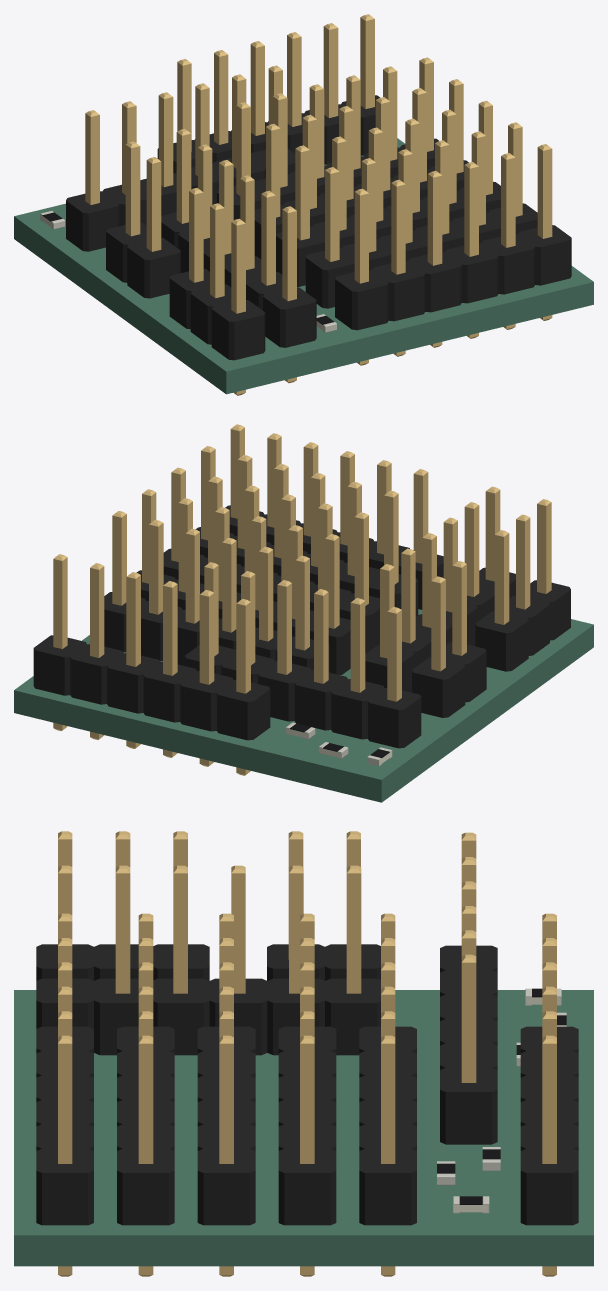
File: spi_split.glb
3 views of the same model, one above another, from view 1: azimuth 30°, elevation 25°; view 2: azimuth 150°, elevation 25°; view 3: azimuth 270°, elevation 25° (orthographic). The views are drawn at different scales.
Visible parts, largest first — view 1: =>[0:1:1:6], J6, J11, J5, J3, J1, J2, J4, J9, J10, J8; view 2: =>[0:1:1:6], J1, J3, J9, J11, J2, J4, J10, J6, J5, J8; view 3: =>[0:1:1:6], J11, J10, J4, J1, J5, J6, J9, J3, J2, J8, R6.
Boxes of the visible parts, x1=… form: =>[0:1:1:6]: x1=14, y1=138, x2=593, y2=394; J6: x1=335, y1=144, x2=571, y2=365; J11: x1=161, y1=129, x2=316, y2=383; J5: x1=305, y1=122, x2=537, y2=308; J3: x1=66, y1=65, x2=295, y2=251; J1: x1=157, y1=14, x2=379, y2=173; J2: x1=169, y1=188, x2=265, y2=395; J4: x1=276, y1=100, x2=500, y2=286; J9: x1=217, y1=57, x2=438, y2=219; J10: x1=254, y1=79, x2=468, y2=258; J8: x1=106, y1=141, x2=180, y2=298; =>[0:1:1:6]: x1=14, y1=609, x2=593, y2=802; J1: x1=33, y1=554, x2=270, y2=775; J3: x1=184, y1=562, x2=421, y2=748; J9: x1=104, y1=511, x2=329, y2=672; J11: x1=365, y1=486, x2=515, y2=692; J2: x1=475, y1=499, x2=570, y2=671; J4: x1=163, y1=467, x2=379, y2=653; J10: x1=136, y1=489, x2=350, y2=674; J6: x1=225, y1=424, x2=443, y2=609; J5: x1=195, y1=446, x2=418, y2=616; J8: x1=412, y1=561, x2=486, y2=717; =>[0:1:1:6]: x1=14, y1=990, x2=593, y2=1266; J11: x1=36, y1=865, x2=380, y2=1055; J10: x1=278, y1=913, x2=336, y2=1276; J4: x1=197, y1=913, x2=255, y2=1276; J1: x1=520, y1=913, x2=578, y2=1276; J5: x1=117, y1=913, x2=174, y2=1276; J6: x1=36, y1=913, x2=93, y2=1276; J9: x1=359, y1=913, x2=416, y2=1276; J3: x1=440, y1=832, x2=497, y2=1144; J2: x1=36, y1=831, x2=209, y2=980; J8: x1=267, y1=831, x2=380, y2=980; R6: x1=453, y1=1196, x2=489, y2=1213.
Bounding box in the file's own units: 0.0255 × 0.0115 × 0.0255.
